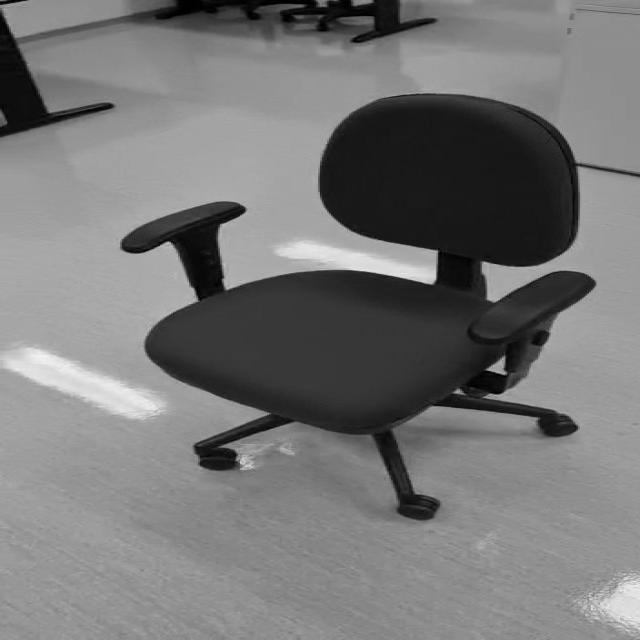chair: (120, 92, 596, 522)
